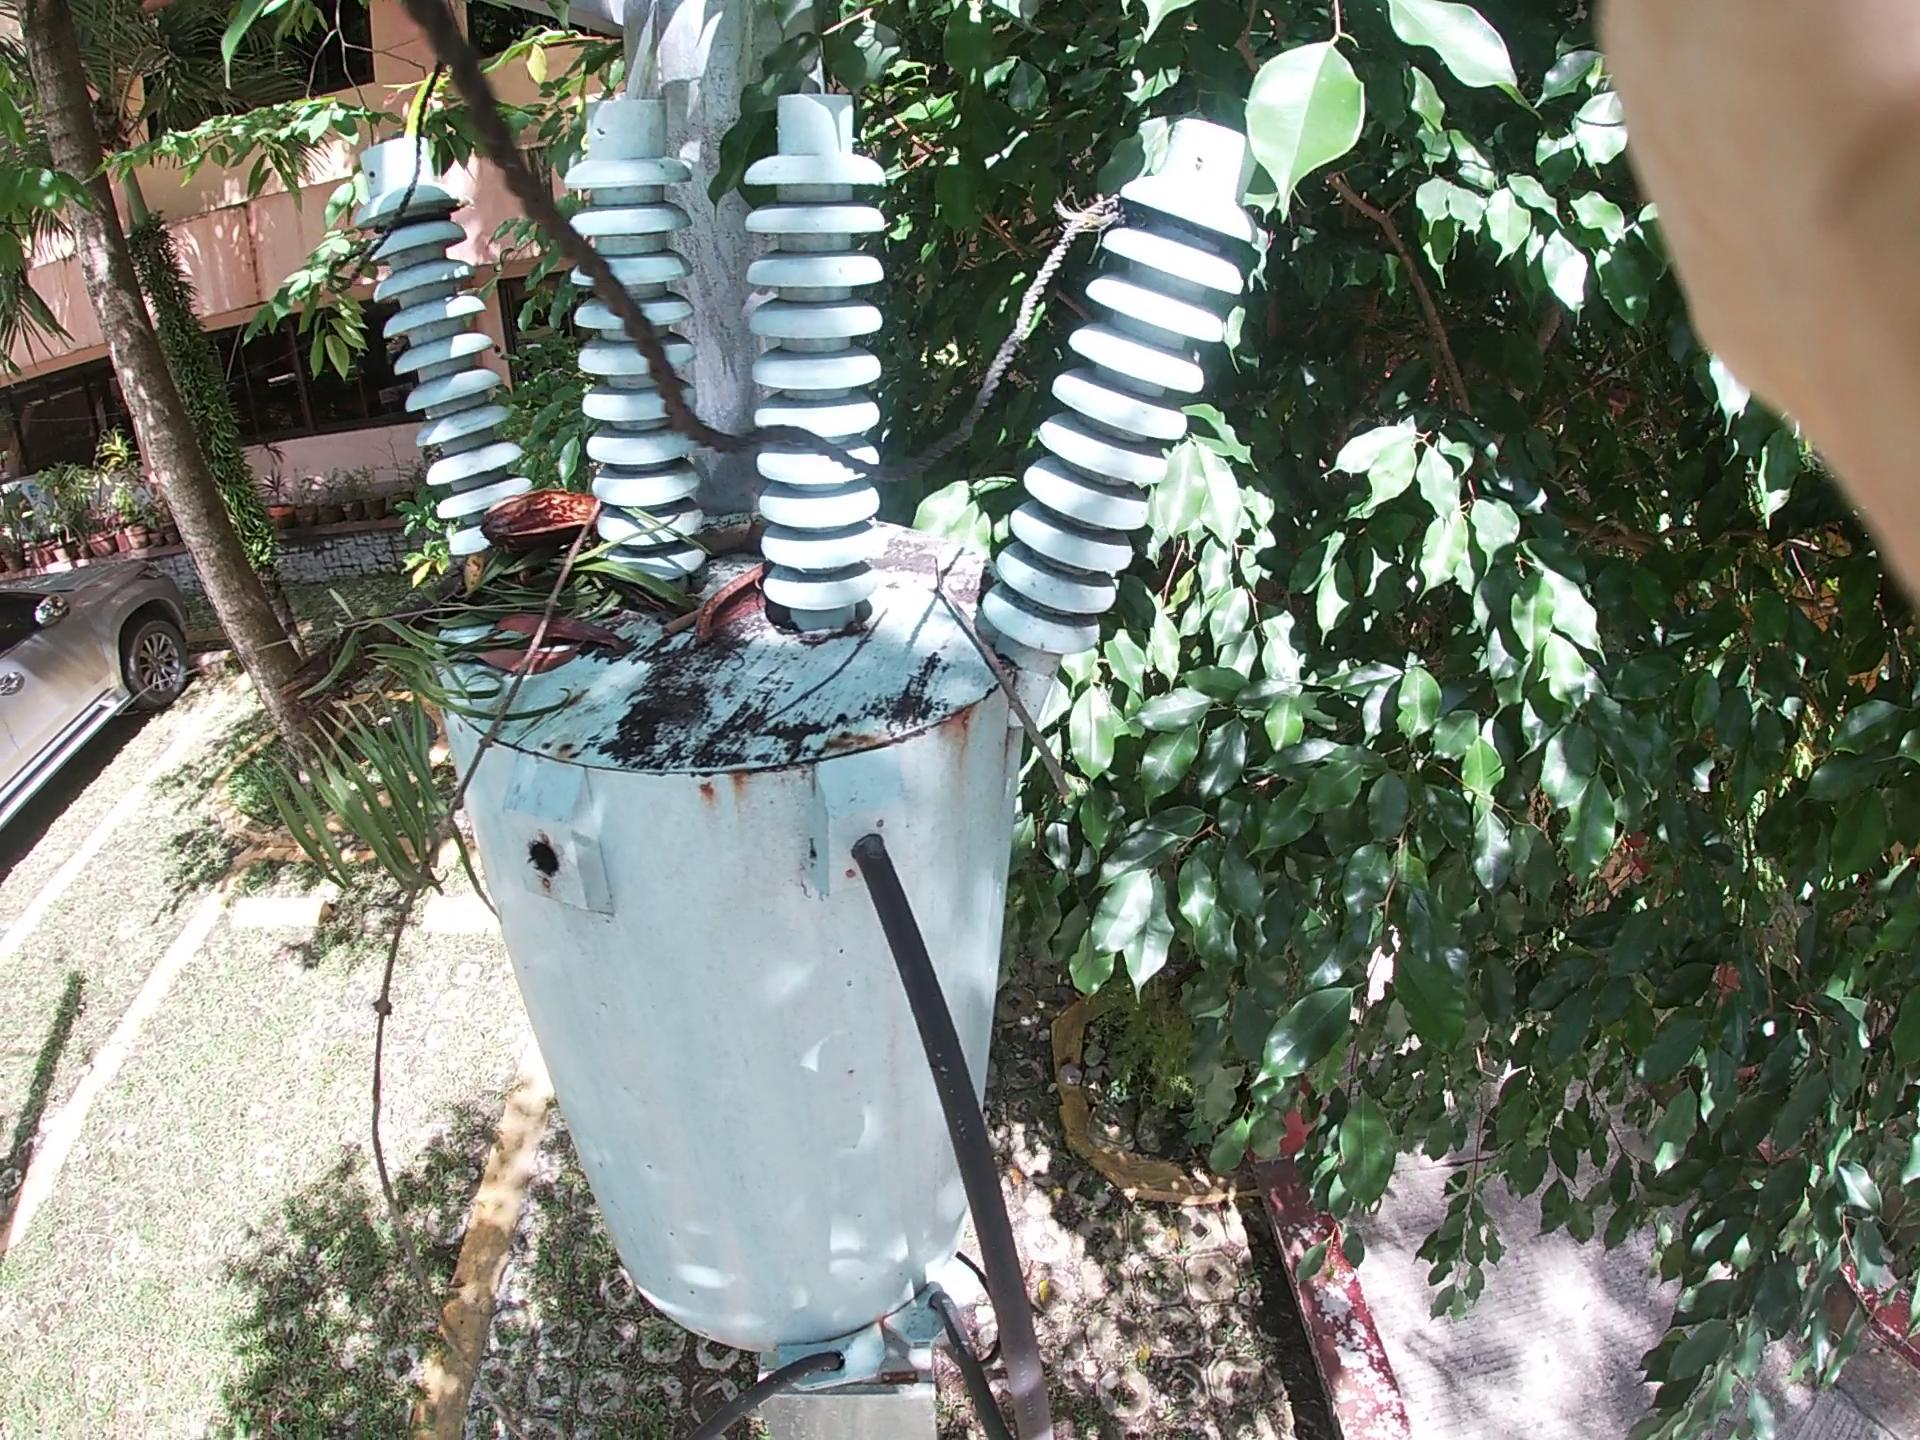branch with leaves: (218, 507, 624, 926)
leaf: (478, 557, 579, 715)
mahogany fruit: (674, 540, 812, 711), (482, 464, 630, 576)
tree branch: (912, 531, 1179, 784), (655, 461, 845, 610)
